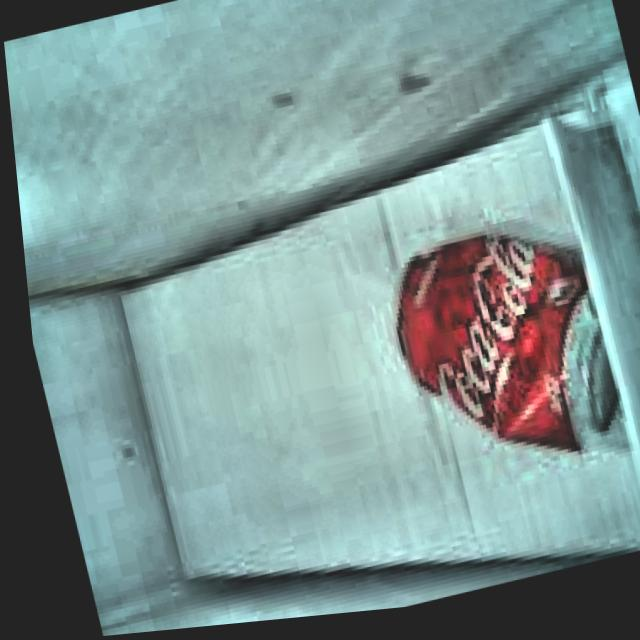Cans: (348, 205, 623, 508)
